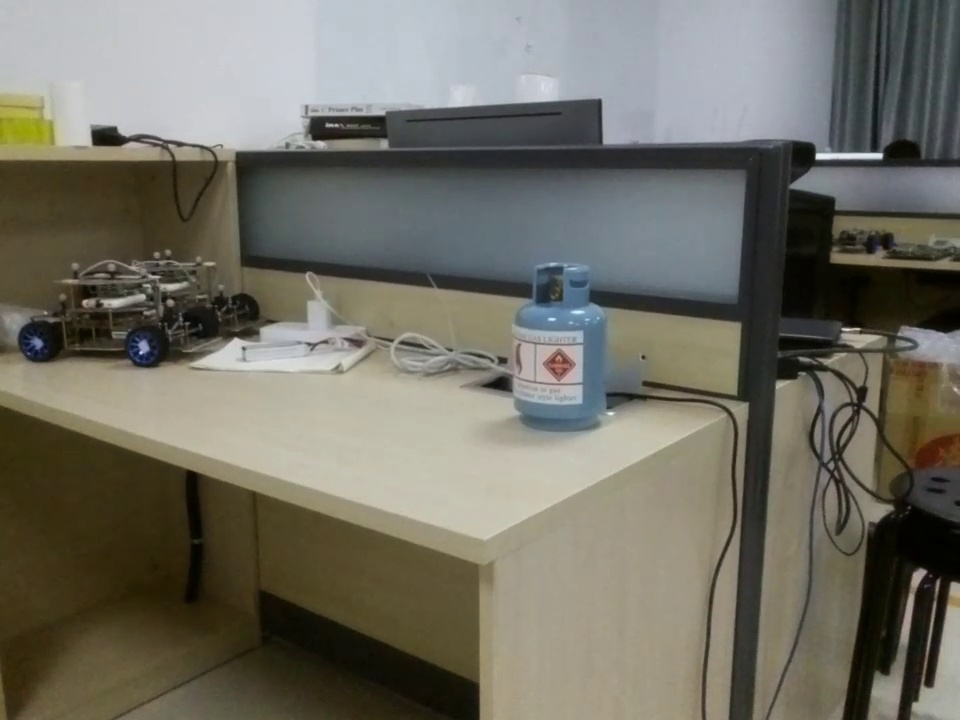gas tank: (496, 248, 625, 443)
